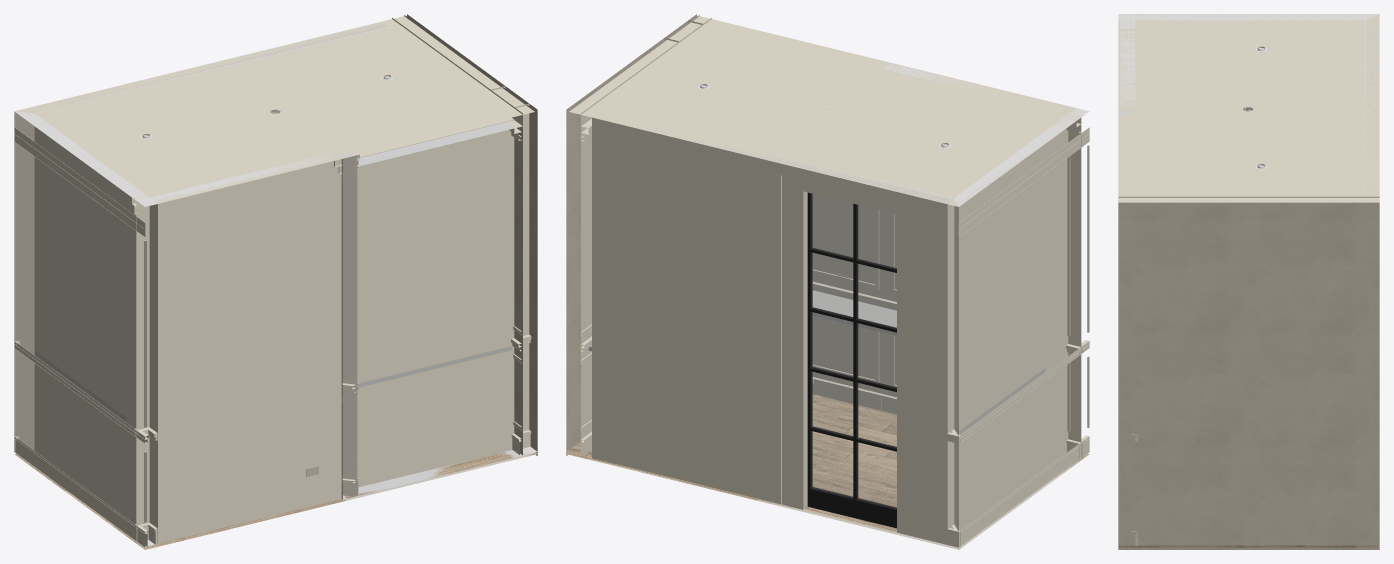
File: pantry-8d2ece97d530.glb
The picture shows the model from 3 angles, left to right: view 1: azimuth 30°, elevation 25°; view 2: azimuth 150°, elevation 25°; view 3: azimuth 270°, elevation 25°; orthographic projection.
Visible parts, largest first — view 1: pantry-e1ae12ec9cba52a2, pantry-e64cabe238f3e83a, pantry-2575515a05775d9e, pantry-5b6bbac285e58726, pantry-6a1144f4e43410bb, pantry-e462de76b61e99cf, pantry-1b1dac62f3b0f38e, pantry-ab25ce0be192bde7, pantry-2c29ddcb8551cb02, pantry-e54d813e60c9e7c4, pantry-3b0077416469e01b, pantry-4b4a529ae091588b (+10 smaller); view 2: pantry-bd4023b7987ad736, pantry-2575515a05775d9e, pantry-5b6bbac285e58726, pantry-391f310680cc5508, pantry-e64cabe238f3e83a, pantry-af97eba351c411ae, pantry-3b0077416469e01b, pantry-e1ae12ec9cba52a2, pantry-2c29ddcb8551cb02, pantry-e54d813e60c9e7c4, pantry-1fae004be5e077cf, pantry-af1041973fdfbb5e (+12 smaller); view 3: pantry-af97eba351c411ae, pantry-2575515a05775d9e, pantry-ab25ce0be192bde7, pantry-e462de76b61e99cf, pantry-4b4a529ae091588b, pantry-5b6bbac285e58726, pantry-e1ae12ec9cba52a2, pantry-ecf72e0057751250, pantry-710b1f455b9f0804, pantry-bd4023b7987ad736, pantry-3b0077416469e01b, pantry-76fec1e12e3db62a.
Boxes of the visible parts, box(x1,y1,x2,y2) form: pantry-e1ae12ec9cba52a2: box(149, 154, 341, 543); pantry-e64cabe238f3e83a: box(342, 122, 522, 495); pantry-2575515a05775d9e: box(15, 15, 534, 203); pantry-5b6bbac285e58726: box(14, 111, 149, 540); pantry-6a1144f4e43410bb: box(136, 197, 157, 546); pantry-e462de76b61e99cf: box(514, 104, 537, 455); pantry-1b1dac62f3b0f38e: box(135, 434, 512, 524); pantry-ab25ce0be192bde7: box(490, 86, 529, 431); pantry-2c29ddcb8551cb02: box(14, 437, 145, 547); pantry-e54d813e60c9e7c4: box(14, 127, 145, 236); pantry-3b0077416469e01b: box(14, 451, 537, 549); pantry-4b4a529ae091588b: box(35, 27, 391, 116); pantry-bd4023b7987ad736: box(592, 117, 954, 544); pantry-2575515a05775d9e: box(569, 15, 1087, 206); pantry-5b6bbac285e58726: box(953, 114, 1081, 547); pantry-391f310680cc5508: box(811, 194, 896, 508); pantry-e64cabe238f3e83a: box(812, 194, 883, 393); pantry-af97eba351c411ae: box(566, 37, 679, 455); pantry-3b0077416469e01b: box(566, 394, 1089, 549); pantry-e1ae12ec9cba52a2: box(883, 64, 1067, 397); pantry-2c29ddcb8551cb02: box(959, 437, 1089, 547); pantry-e54d813e60c9e7c4: box(958, 127, 1089, 236); pantry-1fae004be5e077cf: box(810, 487, 896, 528); pantry-af1041973fdfbb5e: box(807, 192, 812, 506); pantry-af97eba351c411ae: box(1183, 196, 1379, 545); pantry-2575515a05775d9e: box(1118, 14, 1379, 203); pantry-ab25ce0be192bde7: box(1135, 196, 1182, 545); pantry-e462de76b61e99cf: box(1118, 196, 1135, 545); pantry-4b4a529ae091588b: box(1355, 20, 1364, 192); pantry-5b6bbac285e58726: box(1135, 14, 1378, 20); pantry-e1ae12ec9cba52a2: box(1120, 20, 1135, 106); pantry-ecf72e0057751250: box(1368, 19, 1376, 192); pantry-710b1f455b9f0804: box(1135, 14, 1144, 109); pantry-bd4023b7987ad736: box(1364, 19, 1379, 191); pantry-3b0077416469e01b: box(1118, 545, 1379, 547); pantry-76fec1e12e3db62a: box(1118, 547, 1379, 549).
Bounding box in the file's own units: 3.62 × 3.05 × 2.09.
21 materials, 4 textured.
